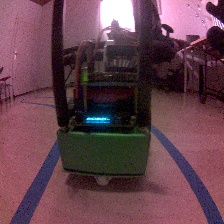rob: (55, 42, 152, 185)
